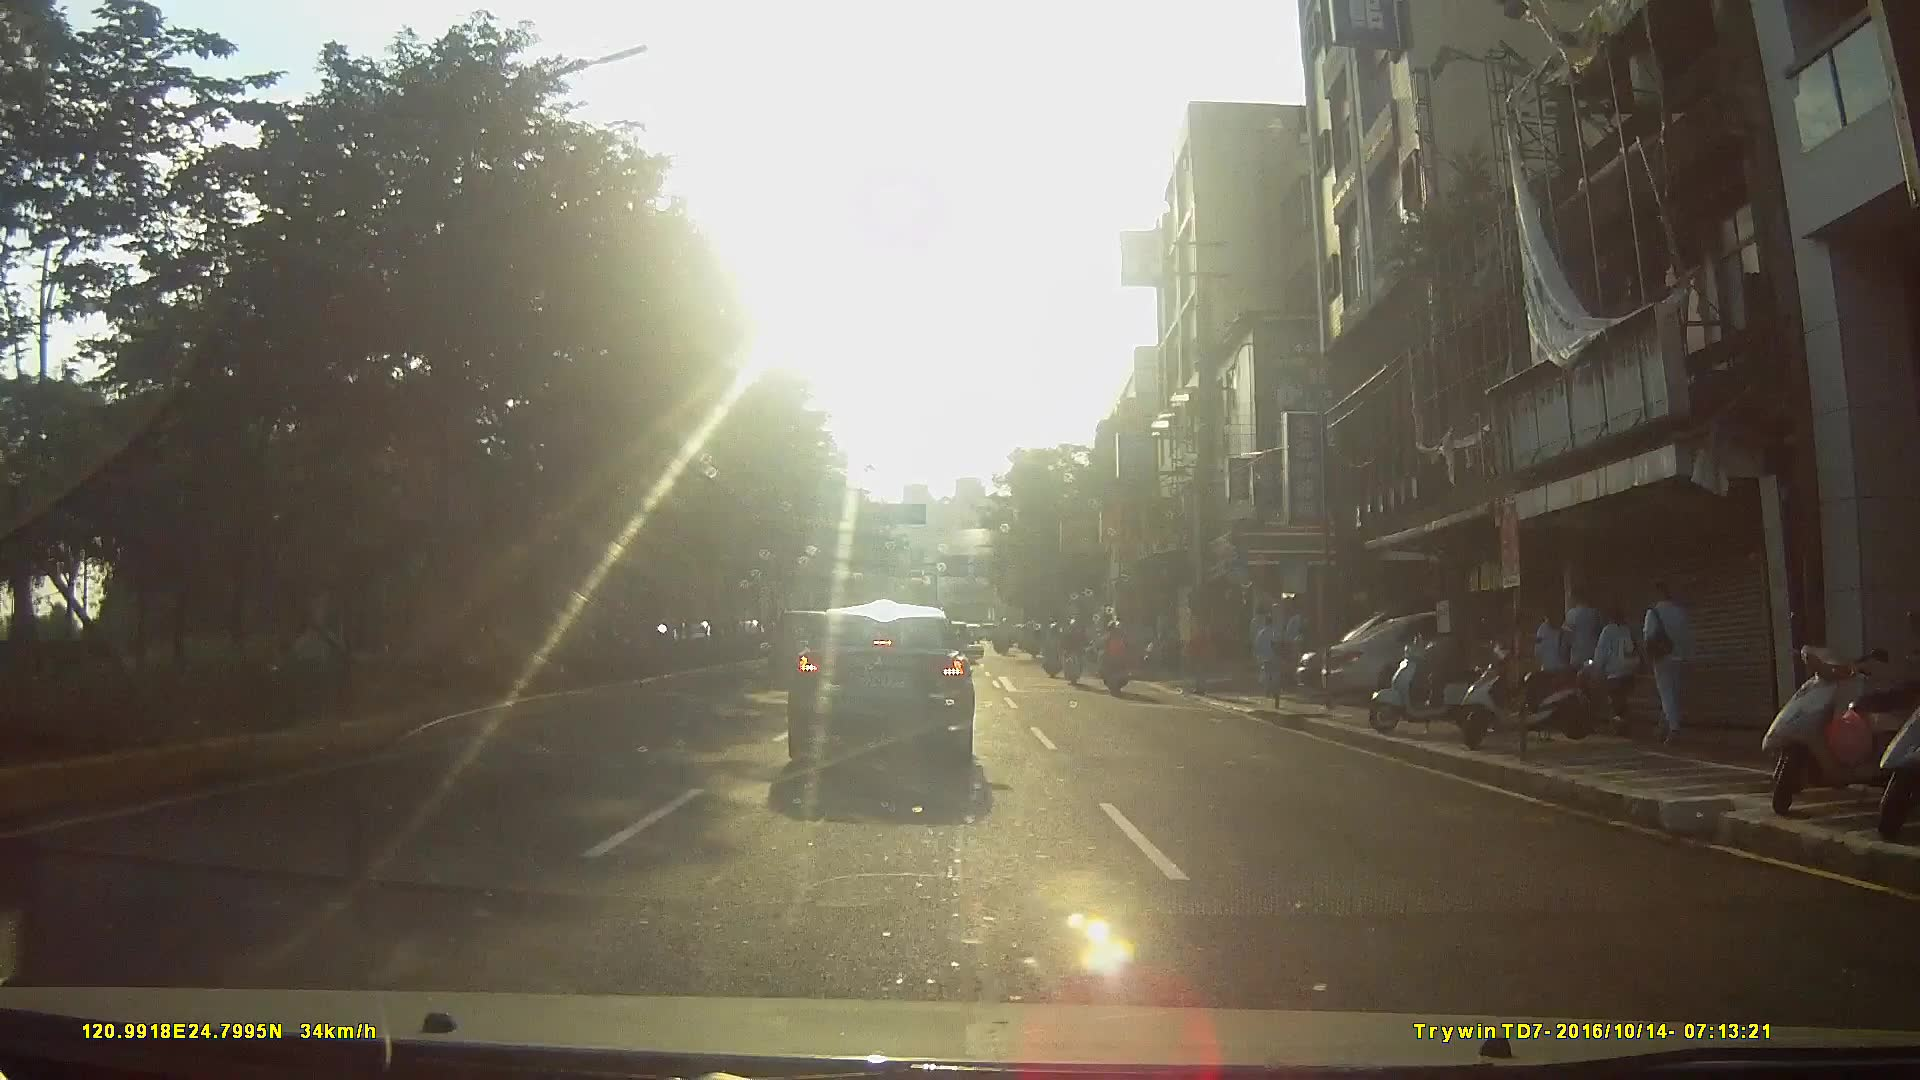pedestrian: (1640, 575, 1690, 736), (1590, 605, 1646, 728), (1559, 579, 1604, 709), (1251, 606, 1284, 703)
rider: (1102, 615, 1138, 695), (1060, 616, 1089, 686), (1040, 620, 1066, 680)
vehicle: (777, 593, 995, 786), (1323, 599, 1600, 707)
